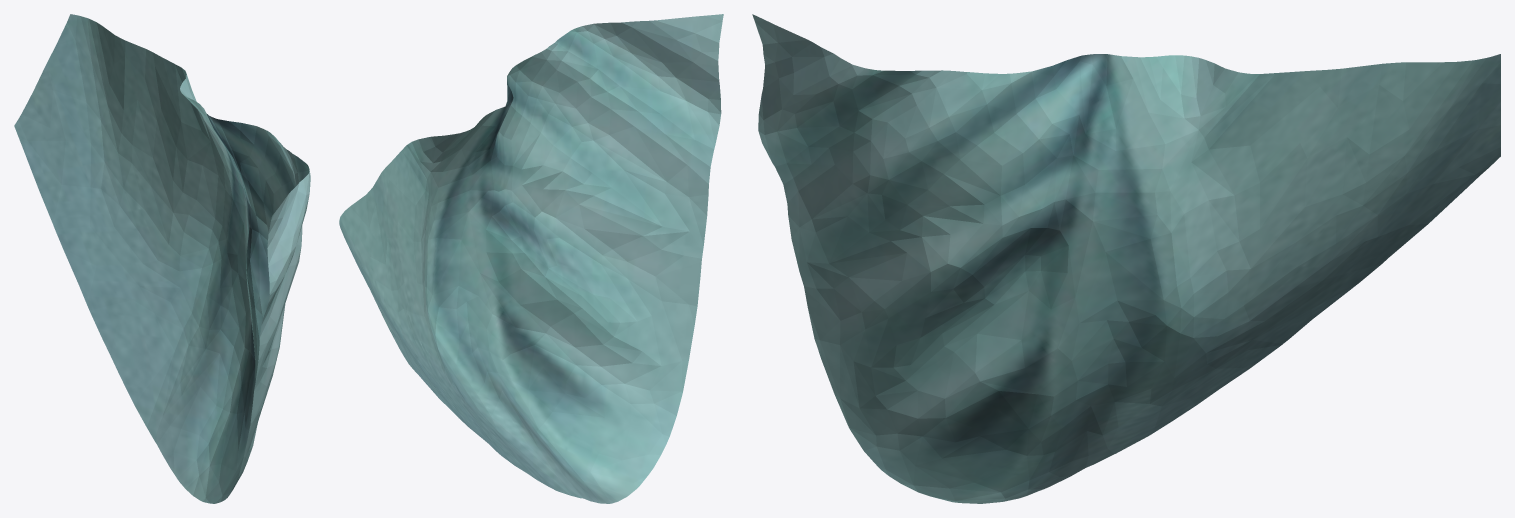
3 views of the same model, side by side, from view 1: azimuth 30°, elevation 25°; view 2: azimuth 150°, elevation 25°; view 3: azimuth 270°, elevation 25° (orthographic). The views are drawn at different scales.
Parts seen in each view (by area): view 1: 091_W_Aya_100K_01; view 2: 091_W_Aya_100K_01; view 3: 091_W_Aya_100K_01.
Part boxes in pixels (x1,y1,x2,y2): 091_W_Aya_100K_01: (14, 14, 310, 503); 091_W_Aya_100K_01: (339, 14, 723, 503); 091_W_Aya_100K_01: (752, 14, 1500, 503).
Size of the model in its own units: 26.46 by 87.04 by 121.
1 material, 1 textured.
